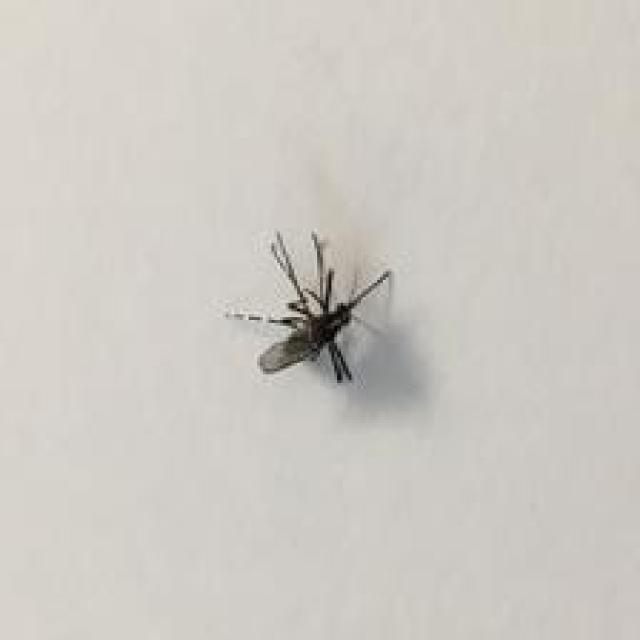Aedes albopictus: (220, 227, 394, 384)
